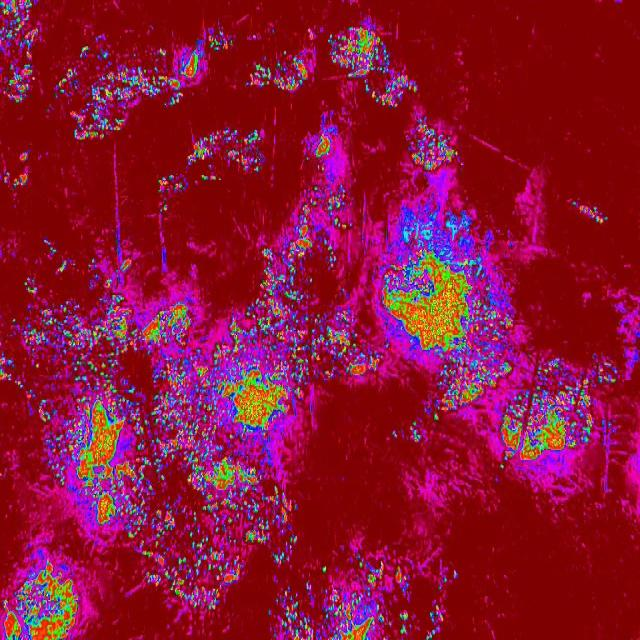fire: (28, 256, 308, 605), (378, 190, 514, 414), (268, 574, 454, 640), (500, 374, 618, 475), (332, 26, 422, 108), (62, 40, 142, 131), (300, 128, 352, 256), (0, 564, 82, 640), (308, 302, 378, 382), (142, 34, 215, 96), (185, 126, 266, 178), (406, 120, 466, 175), (249, 51, 315, 97)
